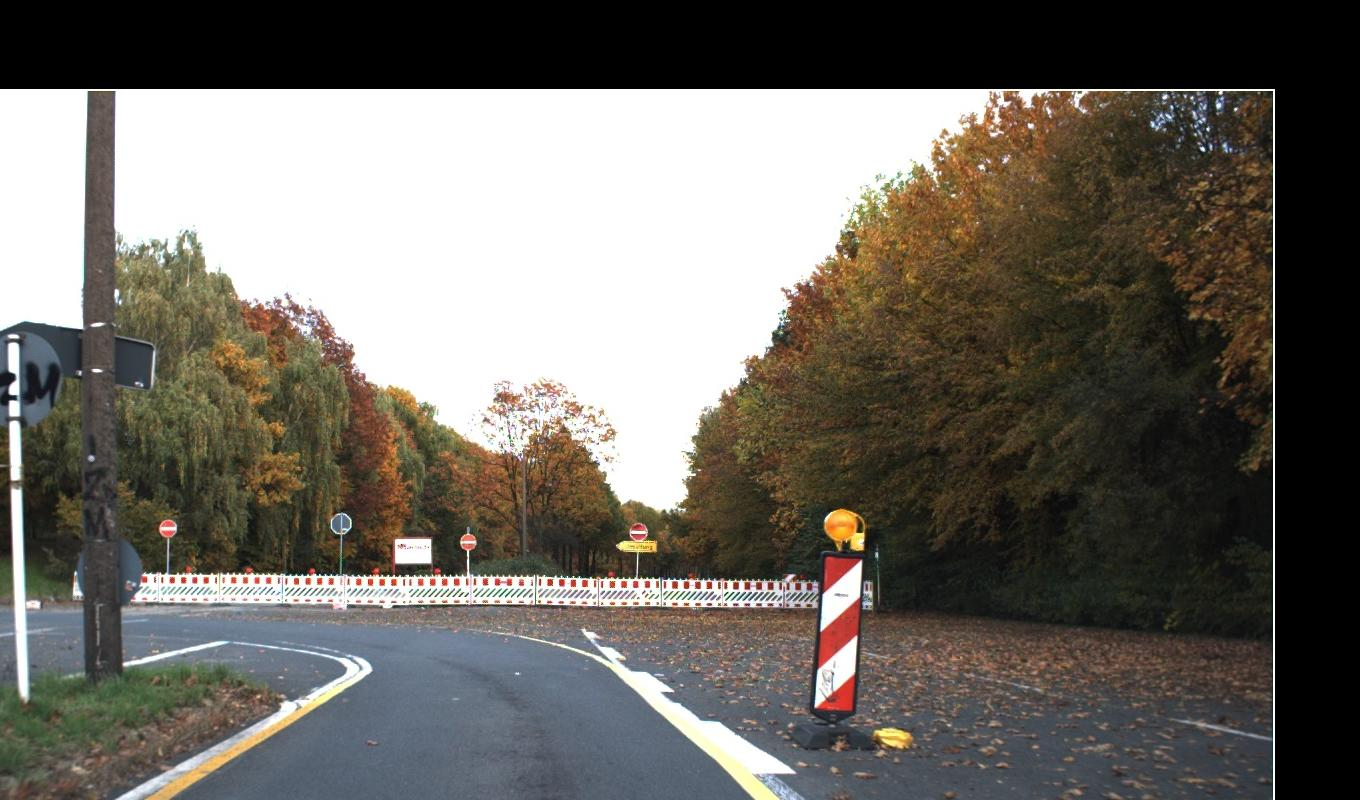no entry: (159, 519, 647, 551)
